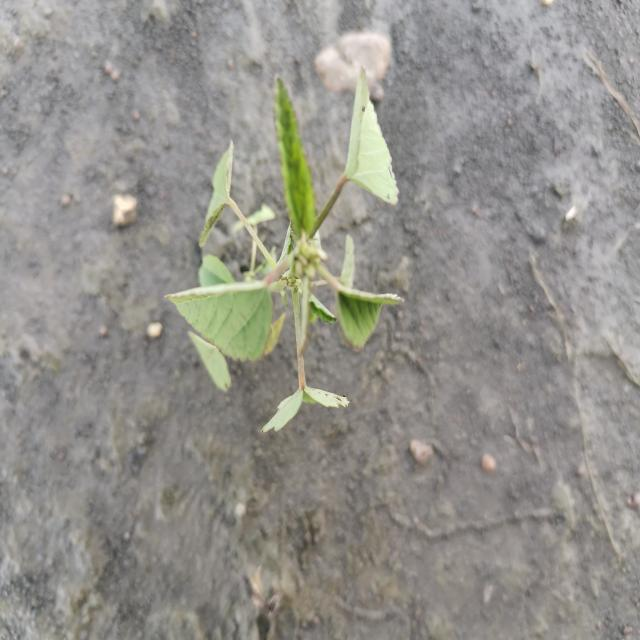PricklySida: (162, 58, 407, 437)
